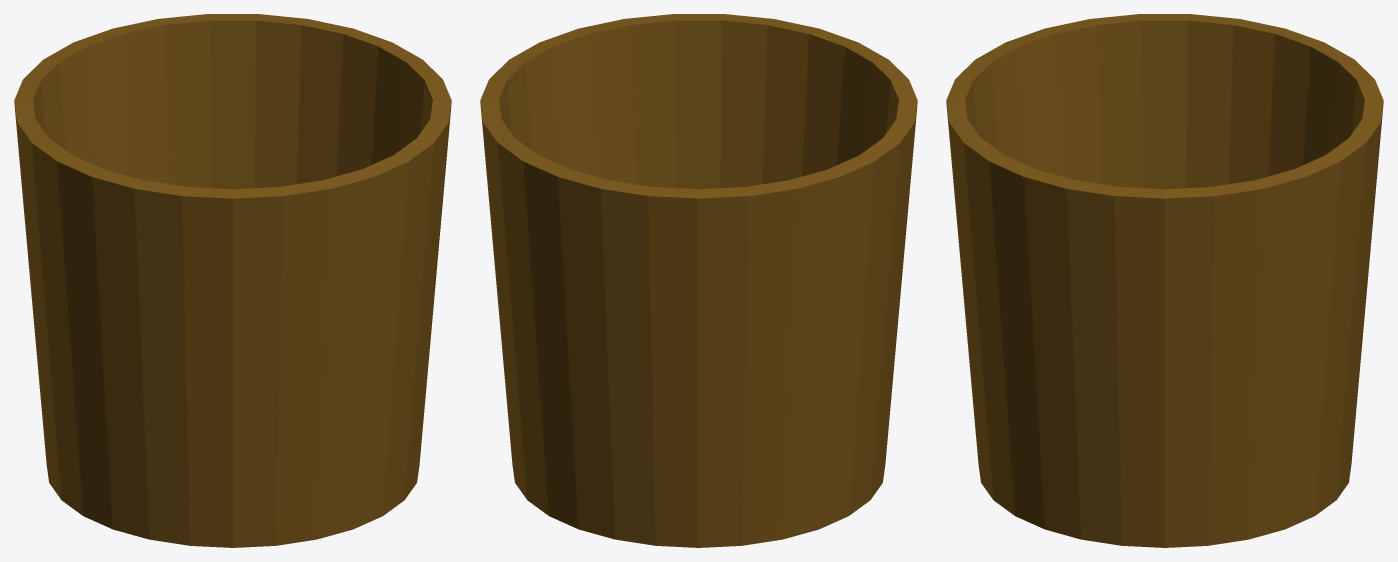
The model's file is cup.1fbx.fbx.
3 renders of one model, left to right at view 1: azimuth 30°, elevation 25°; view 2: azimuth 150°, elevation 25°; view 3: azimuth 270°, elevation 25°, orthographic.
Visible parts, largest first — view 1: pCylinder4; view 2: pCylinder4; view 3: pCylinder4.
Boxes of the visible parts, x1,y1,x2,y2 form: pCylinder4: (14,14,451,547); pCylinder4: (480,14,917,547); pCylinder4: (946,14,1383,547).
Bounding box in the file's own units: 10.74 × 9.88 × 10.75.
